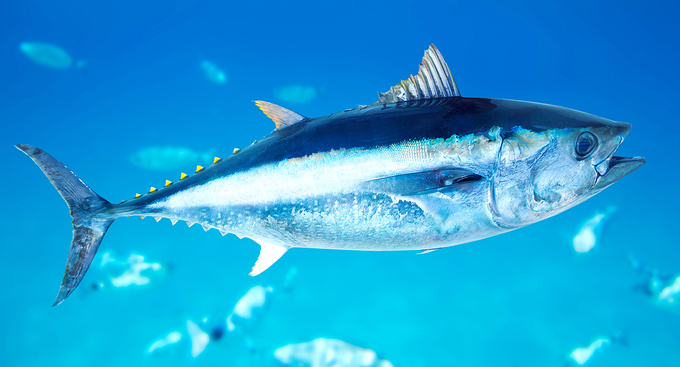Bluefina Tuna: (20, 66, 665, 265)
